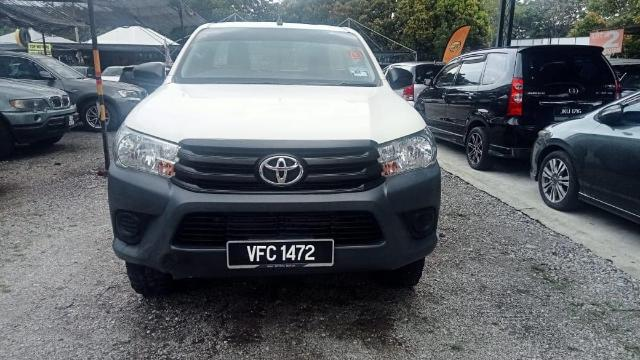License_Plate: (229, 242, 333, 266)
car: (101, 19, 443, 288)
